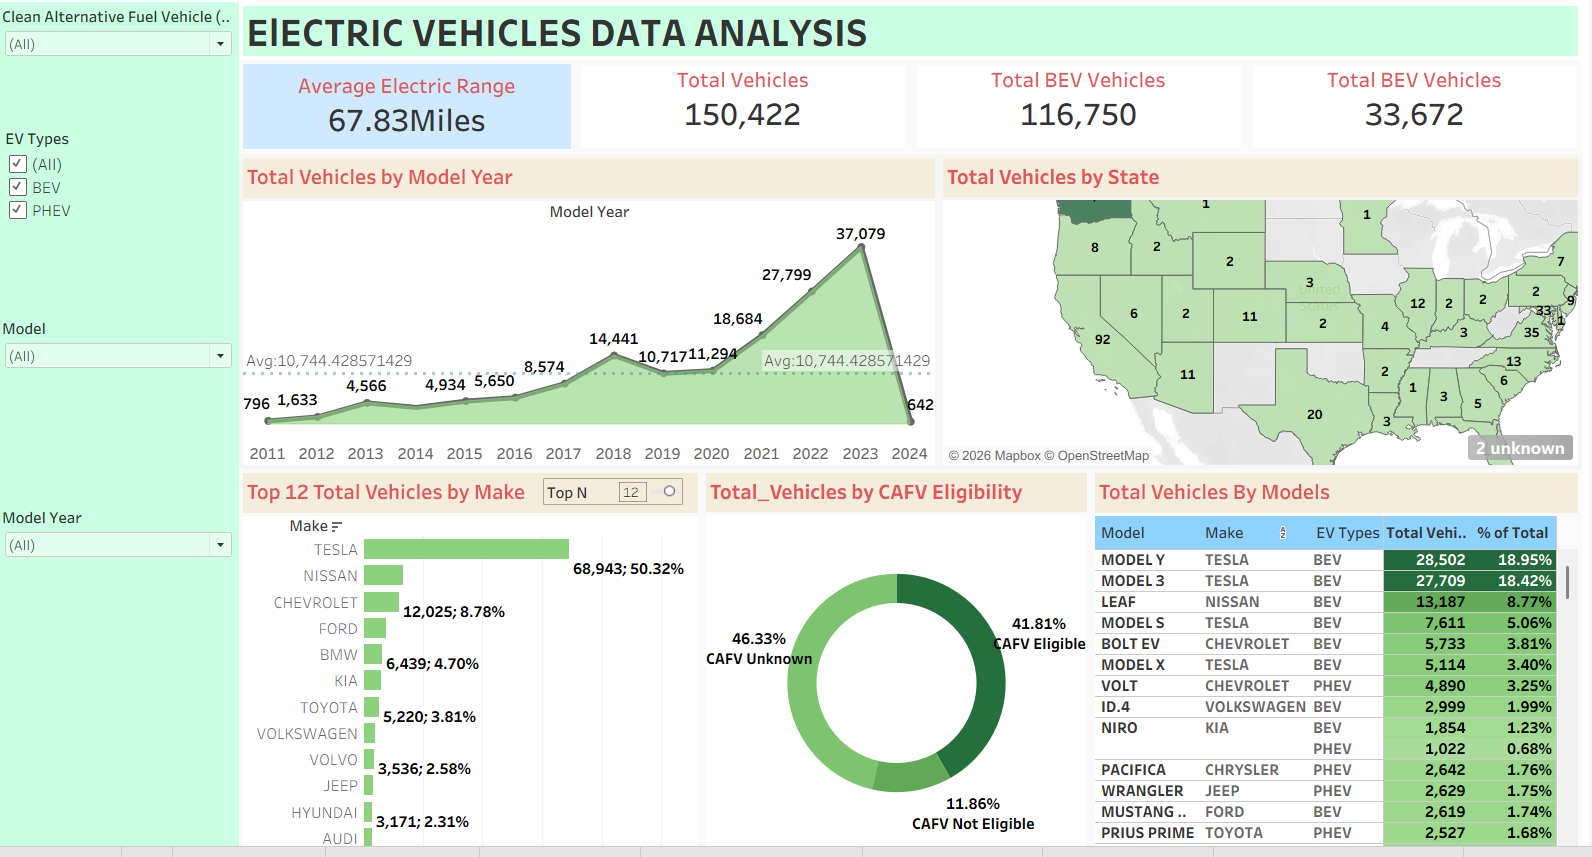

The page's visual inventory and layout, read from the dashboard file:
{"tool":"tableau","page":{"name":"Dashboard 1","canvas":[1600,900],"ordinal":0},"visuals":[{"type":"filter","title":"Total Vehicles by Model Year","param":"[federated.0nqvdlp12iubph13isbkc0hvnyqr].[none:Clean Alternative Fuel Vehicle (C","box":[8,8,241,71]},{"type":"title","box":[249,8,1343,58]},{"type":"worksheet","title":" avg_electric_range","mark":"Automatic","box":[249,66,336,94]},{"type":"worksheet","title":"Total_vehicles","mark":"Automatic","box":[585,66,336,94]},{"type":"worksheet","title":"Total_BEV Vehicles","mark":"Automatic","box":[921,66,336,94]},{"type":"worksheet","title":"Total PHEV Vehicles","mark":"Automatic","box":[1257,66,335,94]},{"type":"blank","box":[8,79,241,51]},{"type":"filter","title":"Total Vehicles by Model Year","param":"[federated.0nqvdlp12iubph13isbkc0hvnyqr].[none:Electric Vehicle Type:nk]","box":[8,130,241,122]},{"type":"worksheet","title":"Total Vehicles by Model Year","mark":"Area","rows":["Calculation_0308473670672384","Calculation_0308473670672384"],"cols":["Model Year"],"box":[249,160,700,315]},{"type":"worksheet","title":"Total Vehicles by State","mark":"Multipolygon","box":[949,160,643,315]},{"type":"blank","box":[8,252,241,68]},{"type":"filter","title":"Total Vehicles by Model Year","param":"[federated.0nqvdlp12iubph13isbkc0hvnyqr].[none:Model:nk]","box":[8,320,241,113]},{"type":"blank","box":[8,433,241,76]},{"type":"worksheet","title":"Top 10 Total Vehicles","mark":"Automatic","rows":["Make"],"cols":["Calculation_0308473670672384"],"box":[249,475,463,386]},{"type":"worksheet","title":"Total_Vehicles by CAFV Eligibility","mark":"Pie","rows":["Calculation_1106446755344387","Calculation_1106446755344387"],"box":[712,475,389,386]},{"type":"worksheet","title":"Total Vehicles By Models","mark":"Square","rows":["Model","Make","Electric Vehicle Type"],"box":[1101,475,491,386]},{"type":"parameter","param":"[Parameters].[Parameter 1106446751334401]","box":[553,484,140,27]},{"type":"filter","title":"Total Vehicles by Model Year","param":"[federated.0nqvdlp12iubph13isbkc0hvnyqr].[none:Model Year:ok]","box":[8,509,241,115]}]}

Visuals, with their boxes on the page's 1600x900 design canvas (x1, y1, x2, y2). These are canvas units, not pixel positions in the 1592x857 screenshot, which may show the page scaled, cropped or inside an application window:
"Total Vehicles by Model Year" filter: (8, 8, 249, 79)
title: (249, 8, 1592, 66)
" avg_electric_range" worksheet: (249, 66, 585, 160)
"Total_vehicles" worksheet: (585, 66, 921, 160)
"Total_BEV Vehicles" worksheet: (921, 66, 1257, 160)
"Total PHEV Vehicles" worksheet: (1257, 66, 1592, 160)
blank: (8, 79, 249, 130)
"Total Vehicles by Model Year" filter: (8, 130, 249, 252)
"Total Vehicles by Model Year" worksheet (Area marks): (249, 160, 949, 475)
"Total Vehicles by State" worksheet (Multipolygon marks): (949, 160, 1592, 475)
blank: (8, 252, 249, 320)
"Total Vehicles by Model Year" filter: (8, 320, 249, 433)
blank: (8, 433, 249, 509)
"Top 10 Total Vehicles" worksheet: (249, 475, 712, 861)
"Total_Vehicles by CAFV Eligibility" worksheet (Pie marks): (712, 475, 1101, 861)
"Total Vehicles By Models" worksheet (Square marks): (1101, 475, 1592, 861)
parameter: (553, 484, 693, 511)
"Total Vehicles by Model Year" filter: (8, 509, 249, 624)
